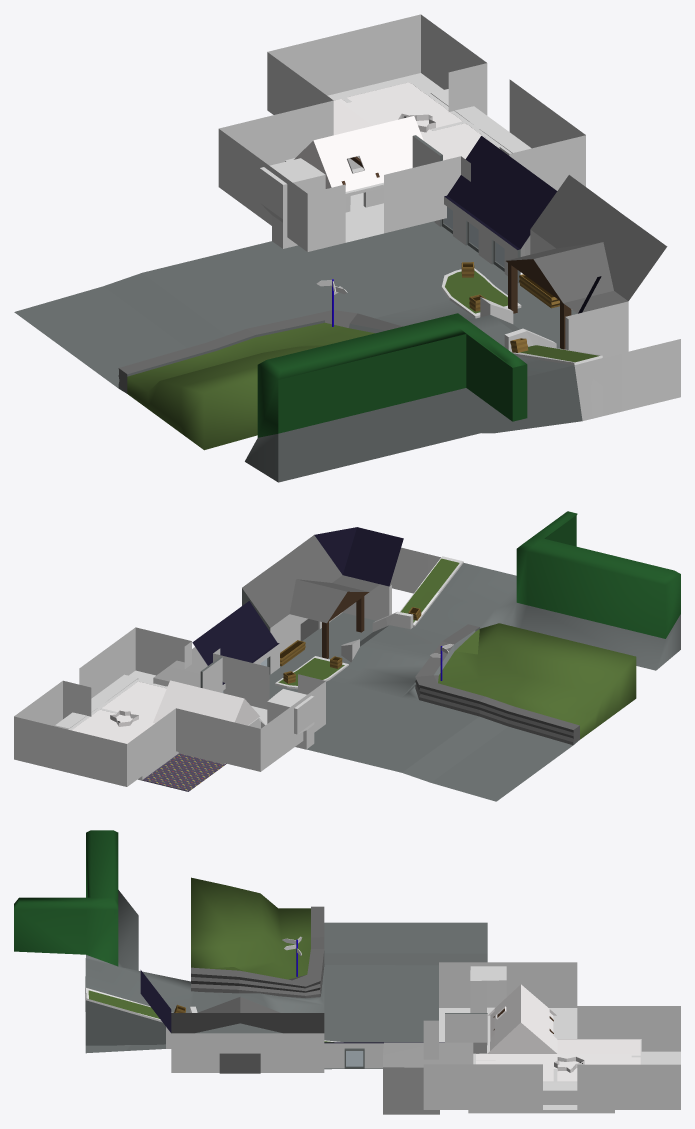
File: MP_Ass2_Arcade2 1.fbx
3 views of the same model, one above another, from view 1: azimuth 30°, elevation 25°; view 2: azimuth 150°, elevation 25°; view 3: azimuth 270°, elevation 25° (orthographic). The views are drawn at different scales.
Visible parts, largest first — view 1: Outside, Plane, Roof, Walls, Roof.001, Hallway, PlantPots; view 2: Outside, Plane, Roof, Walls, Roof.001, Floor, FrontDesk, Hallway, PlantPots; view 3: Outside, Plane, Roof, FrontDesk, Walls, Hallway, Roof.001.
Part boxes in pixels (x1=…): Outside: x1=14, y1=135, x2=680, y2=482; Plane: x1=218, y1=14, x2=585, y2=251; Roof: x1=294, y1=82, x2=499, y2=191; Walls: x1=259, y1=81, x2=511, y2=248; Roof.001: x1=333, y1=83, x2=498, y2=160; Hallway: x1=430, y1=89, x2=531, y2=153; PlantPots: x1=461, y1=262, x2=559, y2=352; Outside: x1=192, y1=511, x2=680, y2=801; Plane: x1=14, y1=627, x2=325, y2=786; Roof: x1=72, y1=680, x2=259, y2=743; Walls: x1=69, y1=679, x2=314, y2=780; Roof.001: x1=72, y1=681, x2=167, y2=740; Floor: x1=142, y1=753, x2=226, y2=791; FrontDesk: x1=153, y1=647, x2=207, y2=687; Hallway: x1=55, y1=674, x2=138, y2=729; PlantPots: x1=280, y1=607, x2=421, y2=683; Outside: x1=14, y1=830, x2=487, y2=1073; Plane: x1=423, y1=962, x2=680, y2=1109; Roof: x1=476, y1=984, x2=640, y2=1081; FrontDesk: x1=383, y1=1042, x2=486, y2=1114; Walls: x1=470, y1=966, x2=641, y2=1082; Hallway: x1=468, y1=1082, x2=614, y2=1113; Roof.001: x1=476, y1=1039, x2=640, y2=1081.
Bounding box in the file's own units: 13812 × 3466 × 19280.
